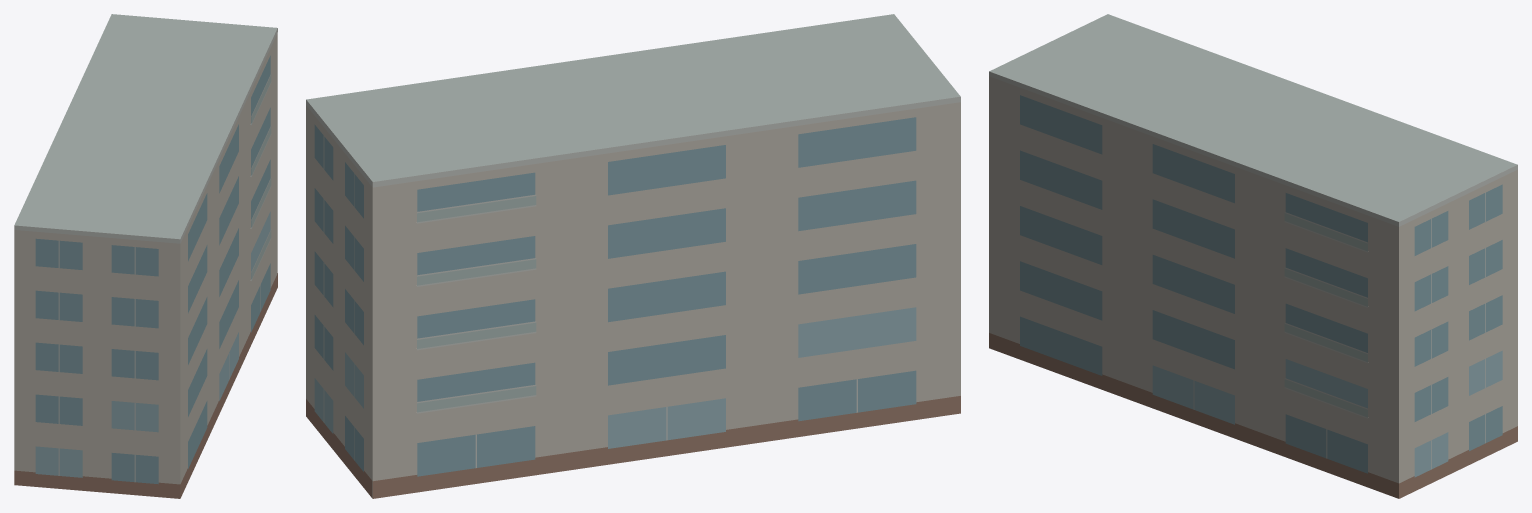
The model's file is survey-upis-32524298.glb.
3 views of the same model, side by side, from view 1: azimuth 30°, elevation 25°; view 2: azimuth 150°, elevation 25°; view 3: azimuth 270°, elevation 25° (orthographic). The views are drawn at different scales.
Visible parts, largest first — view 1: survey-upis-32524298.tmp; view 2: survey-upis-32524298.tmp; view 3: survey-upis-32524298.tmp.
Part boxes in pixels (bbox=[...]): survey-upis-32524298.tmp: bbox=[14, 14, 277, 498]; survey-upis-32524298.tmp: bbox=[306, 14, 960, 498]; survey-upis-32524298.tmp: bbox=[989, 14, 1517, 498].
Bounding box in the file's own units: 22.58 × 14 × 24.24.
